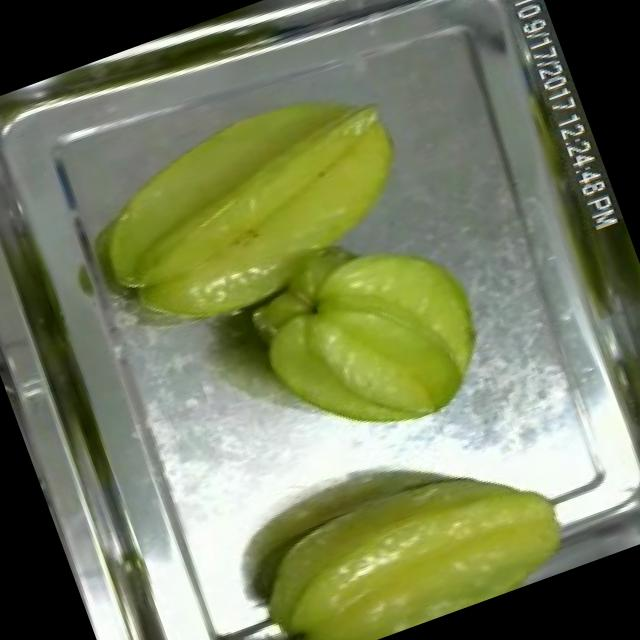fruit: (58, 51, 449, 370), (230, 421, 585, 640), (224, 208, 514, 475)
